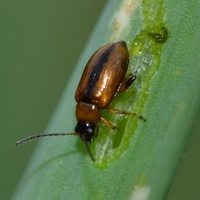insect: (16, 41, 144, 160)
